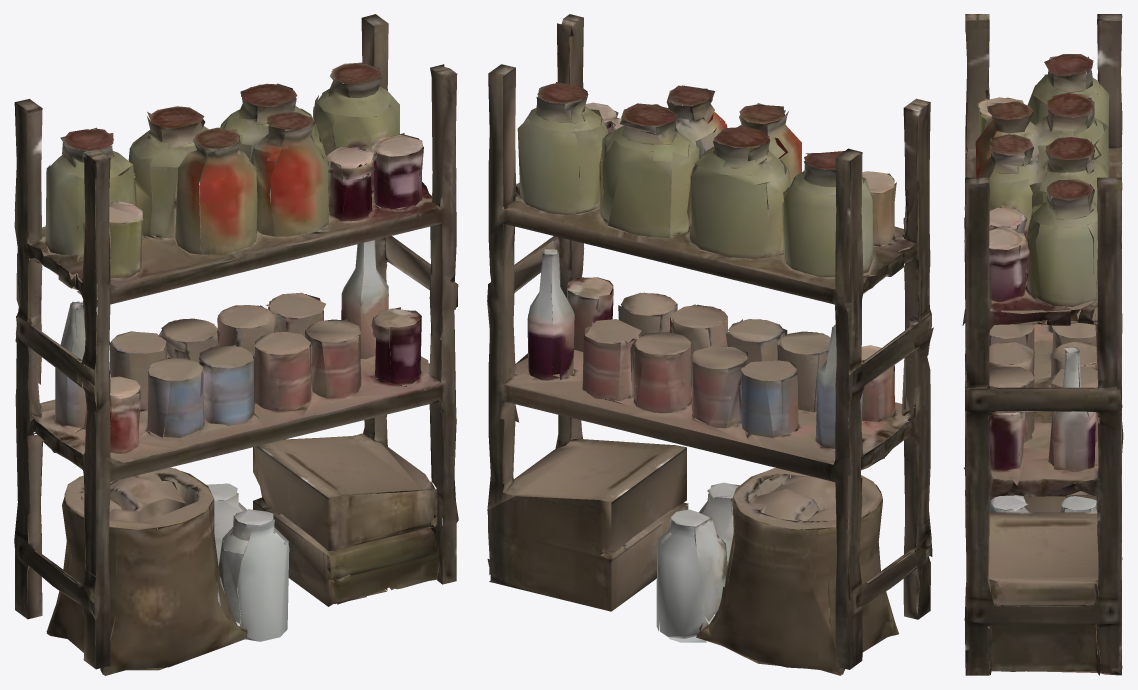
File: basement_shelf.glb
The picture shows the model from 3 angles, left to right: view 1: azimuth 30°, elevation 25°; view 2: azimuth 150°, elevation 25°; view 3: azimuth 270°, elevation 25°; orthographic projection. The views are drawn at different scales.
Parts seen in each view (by area): view 1: lair_shelf; view 2: lair_shelf; view 3: lair_shelf.
Boxes of the visible parts, x1=… form: lair_shelf: x1=14, y1=14, x2=458, y2=675; lair_shelf: x1=487, y1=14, x2=933, y2=675; lair_shelf: x1=962, y1=14, x2=1123, y2=675.
Bounding box in the file's own units: 1.3 × 1.8 × 0.5121.
Materials: 1 (1 with a texture image).
